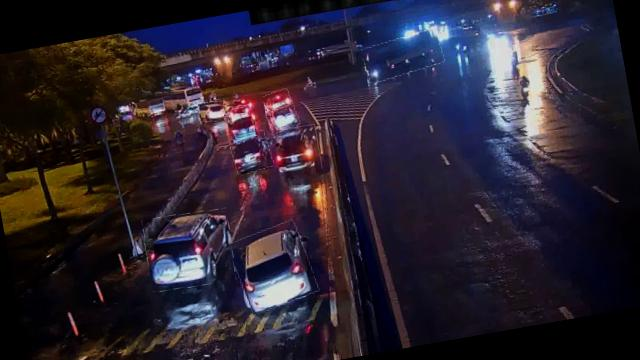Bike: (517, 74, 534, 104)
Car: (140, 206, 238, 294), (228, 220, 318, 313), (272, 124, 322, 176), (228, 130, 274, 174), (264, 99, 300, 132), (229, 111, 258, 140), (197, 100, 226, 124), (200, 99, 230, 122), (262, 88, 292, 110)
Truck: (360, 29, 445, 82)
